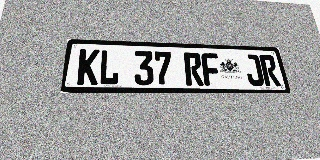3: (134, 51, 154, 85)
7: (153, 51, 173, 85)
F: (201, 53, 222, 86)
J: (243, 54, 265, 86)
K: (76, 49, 100, 85)
L: (98, 49, 120, 85)
R: (183, 52, 204, 86), (259, 55, 281, 86)
